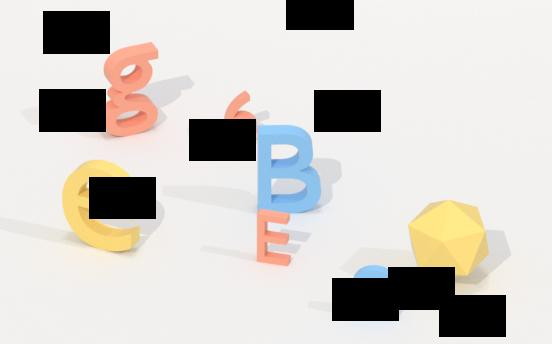6: (222, 87, 260, 147)
E-hoa: (251, 209, 296, 269)
b: (254, 120, 322, 212)
dagiac: (403, 195, 493, 283)
e: (59, 159, 150, 253), (345, 265, 405, 318)
g: (97, 39, 161, 139)
